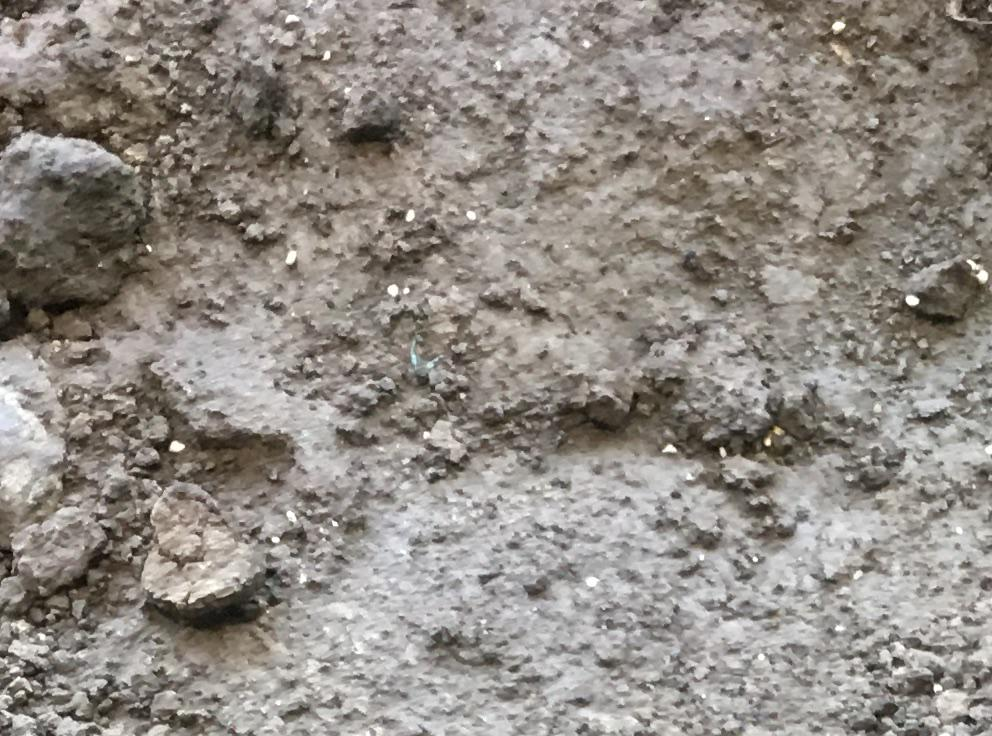block: (1, 134, 140, 318)
